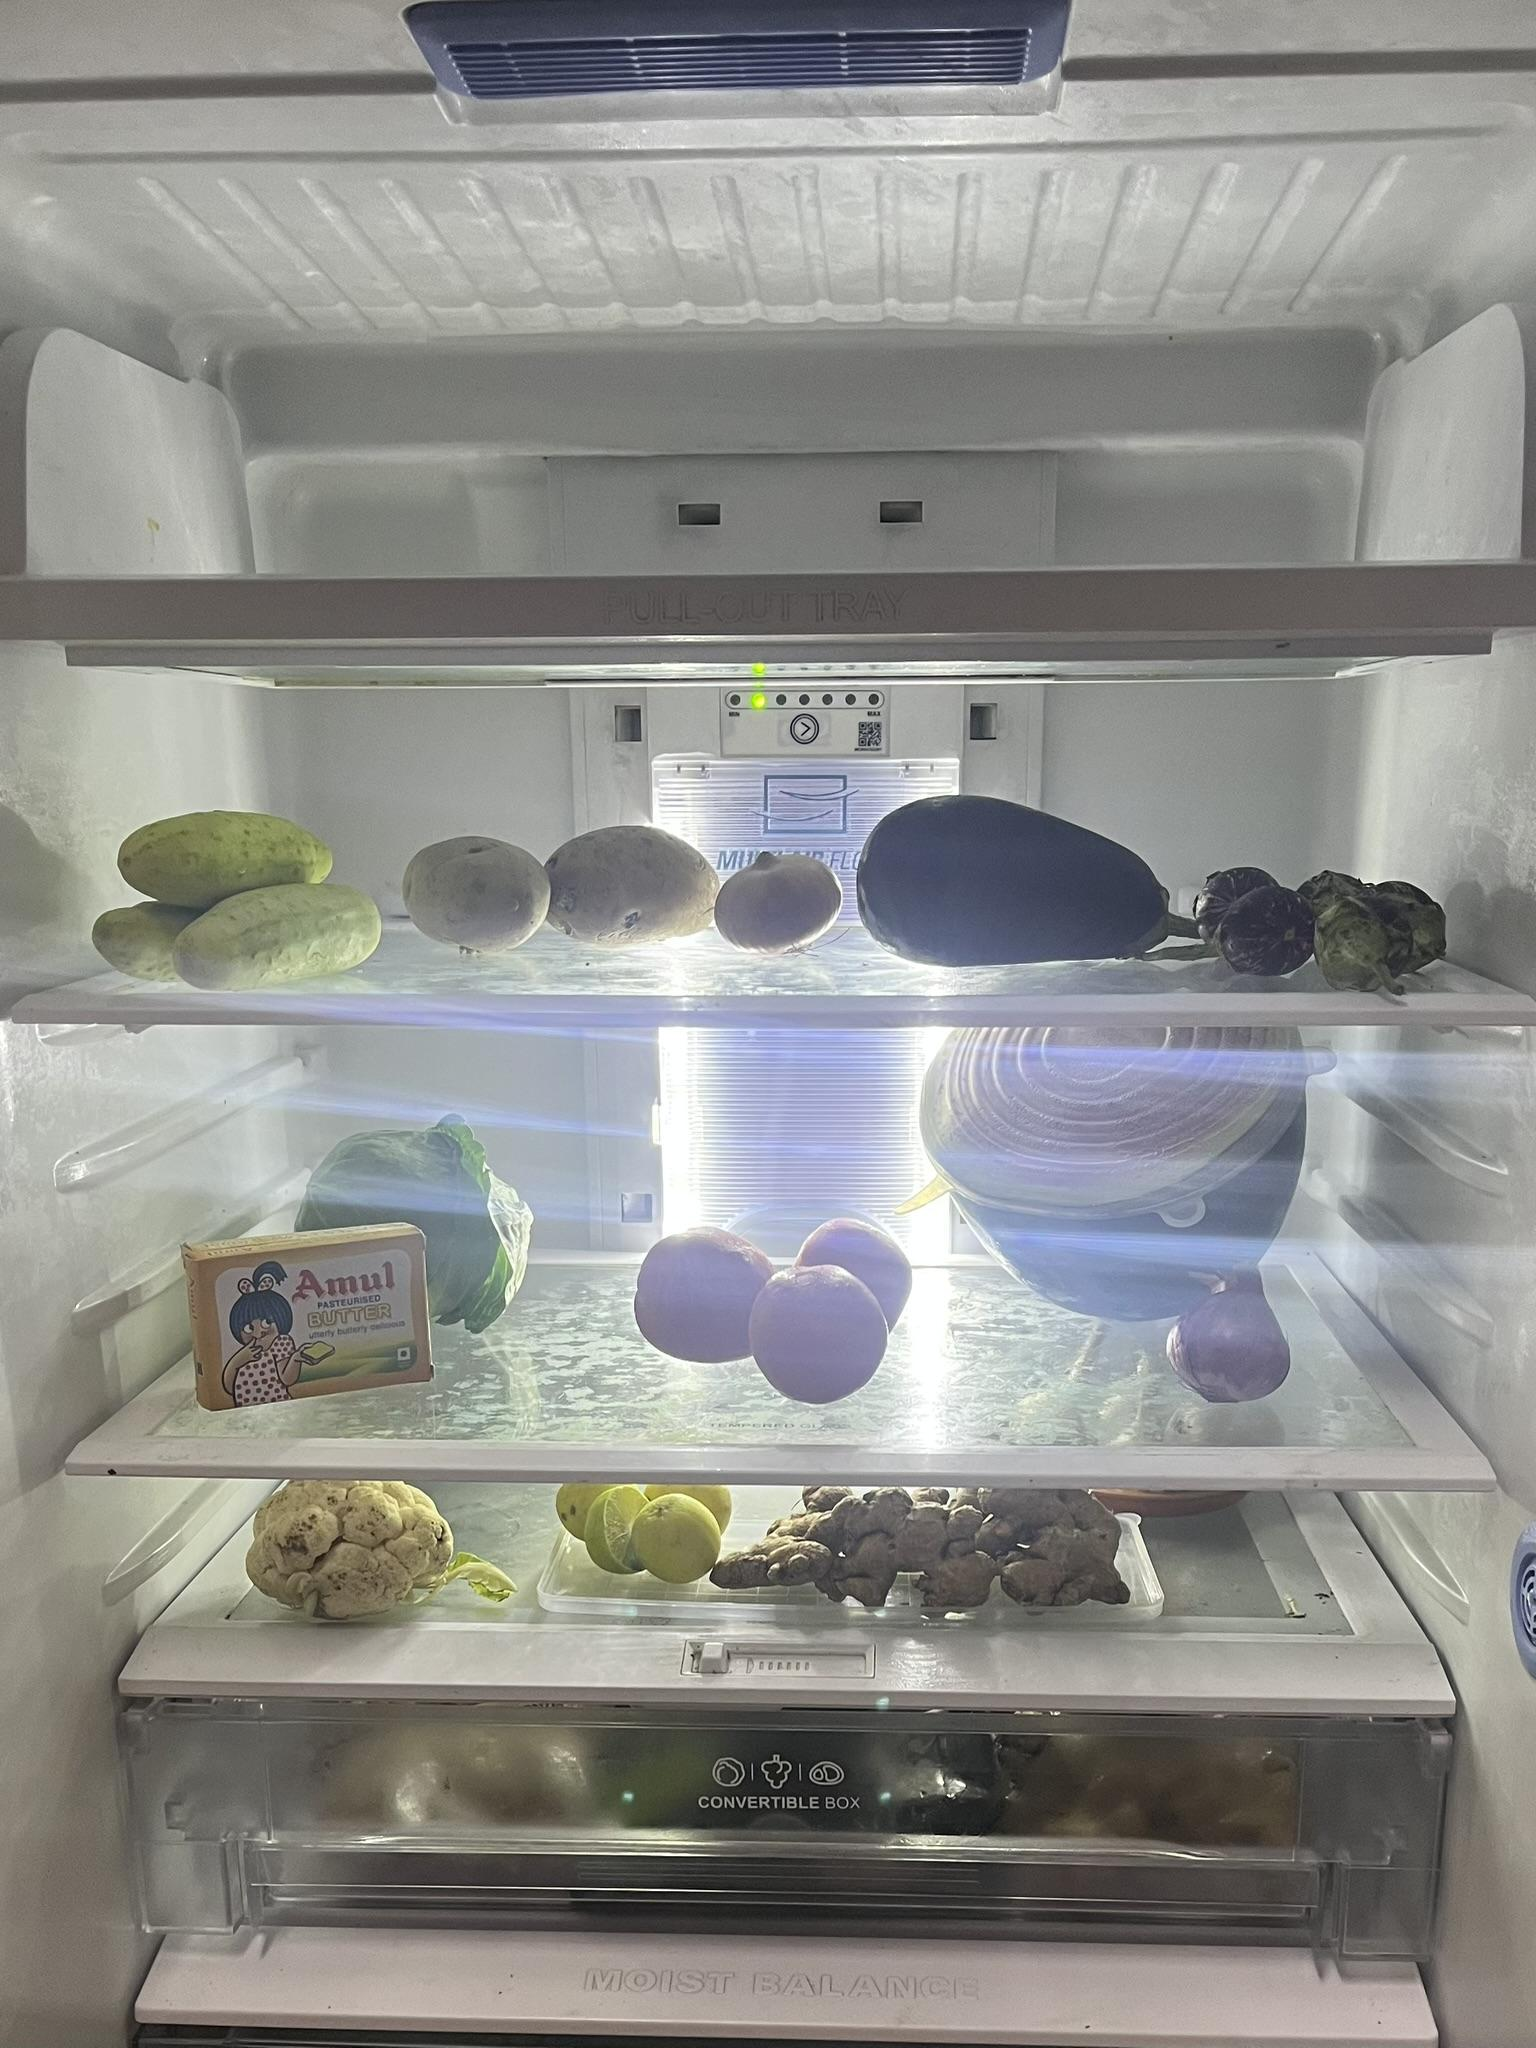bringal: (857, 766, 1207, 966)
cucumber: (90, 800, 390, 987)
potato: (403, 819, 716, 959), (716, 840, 837, 950)
